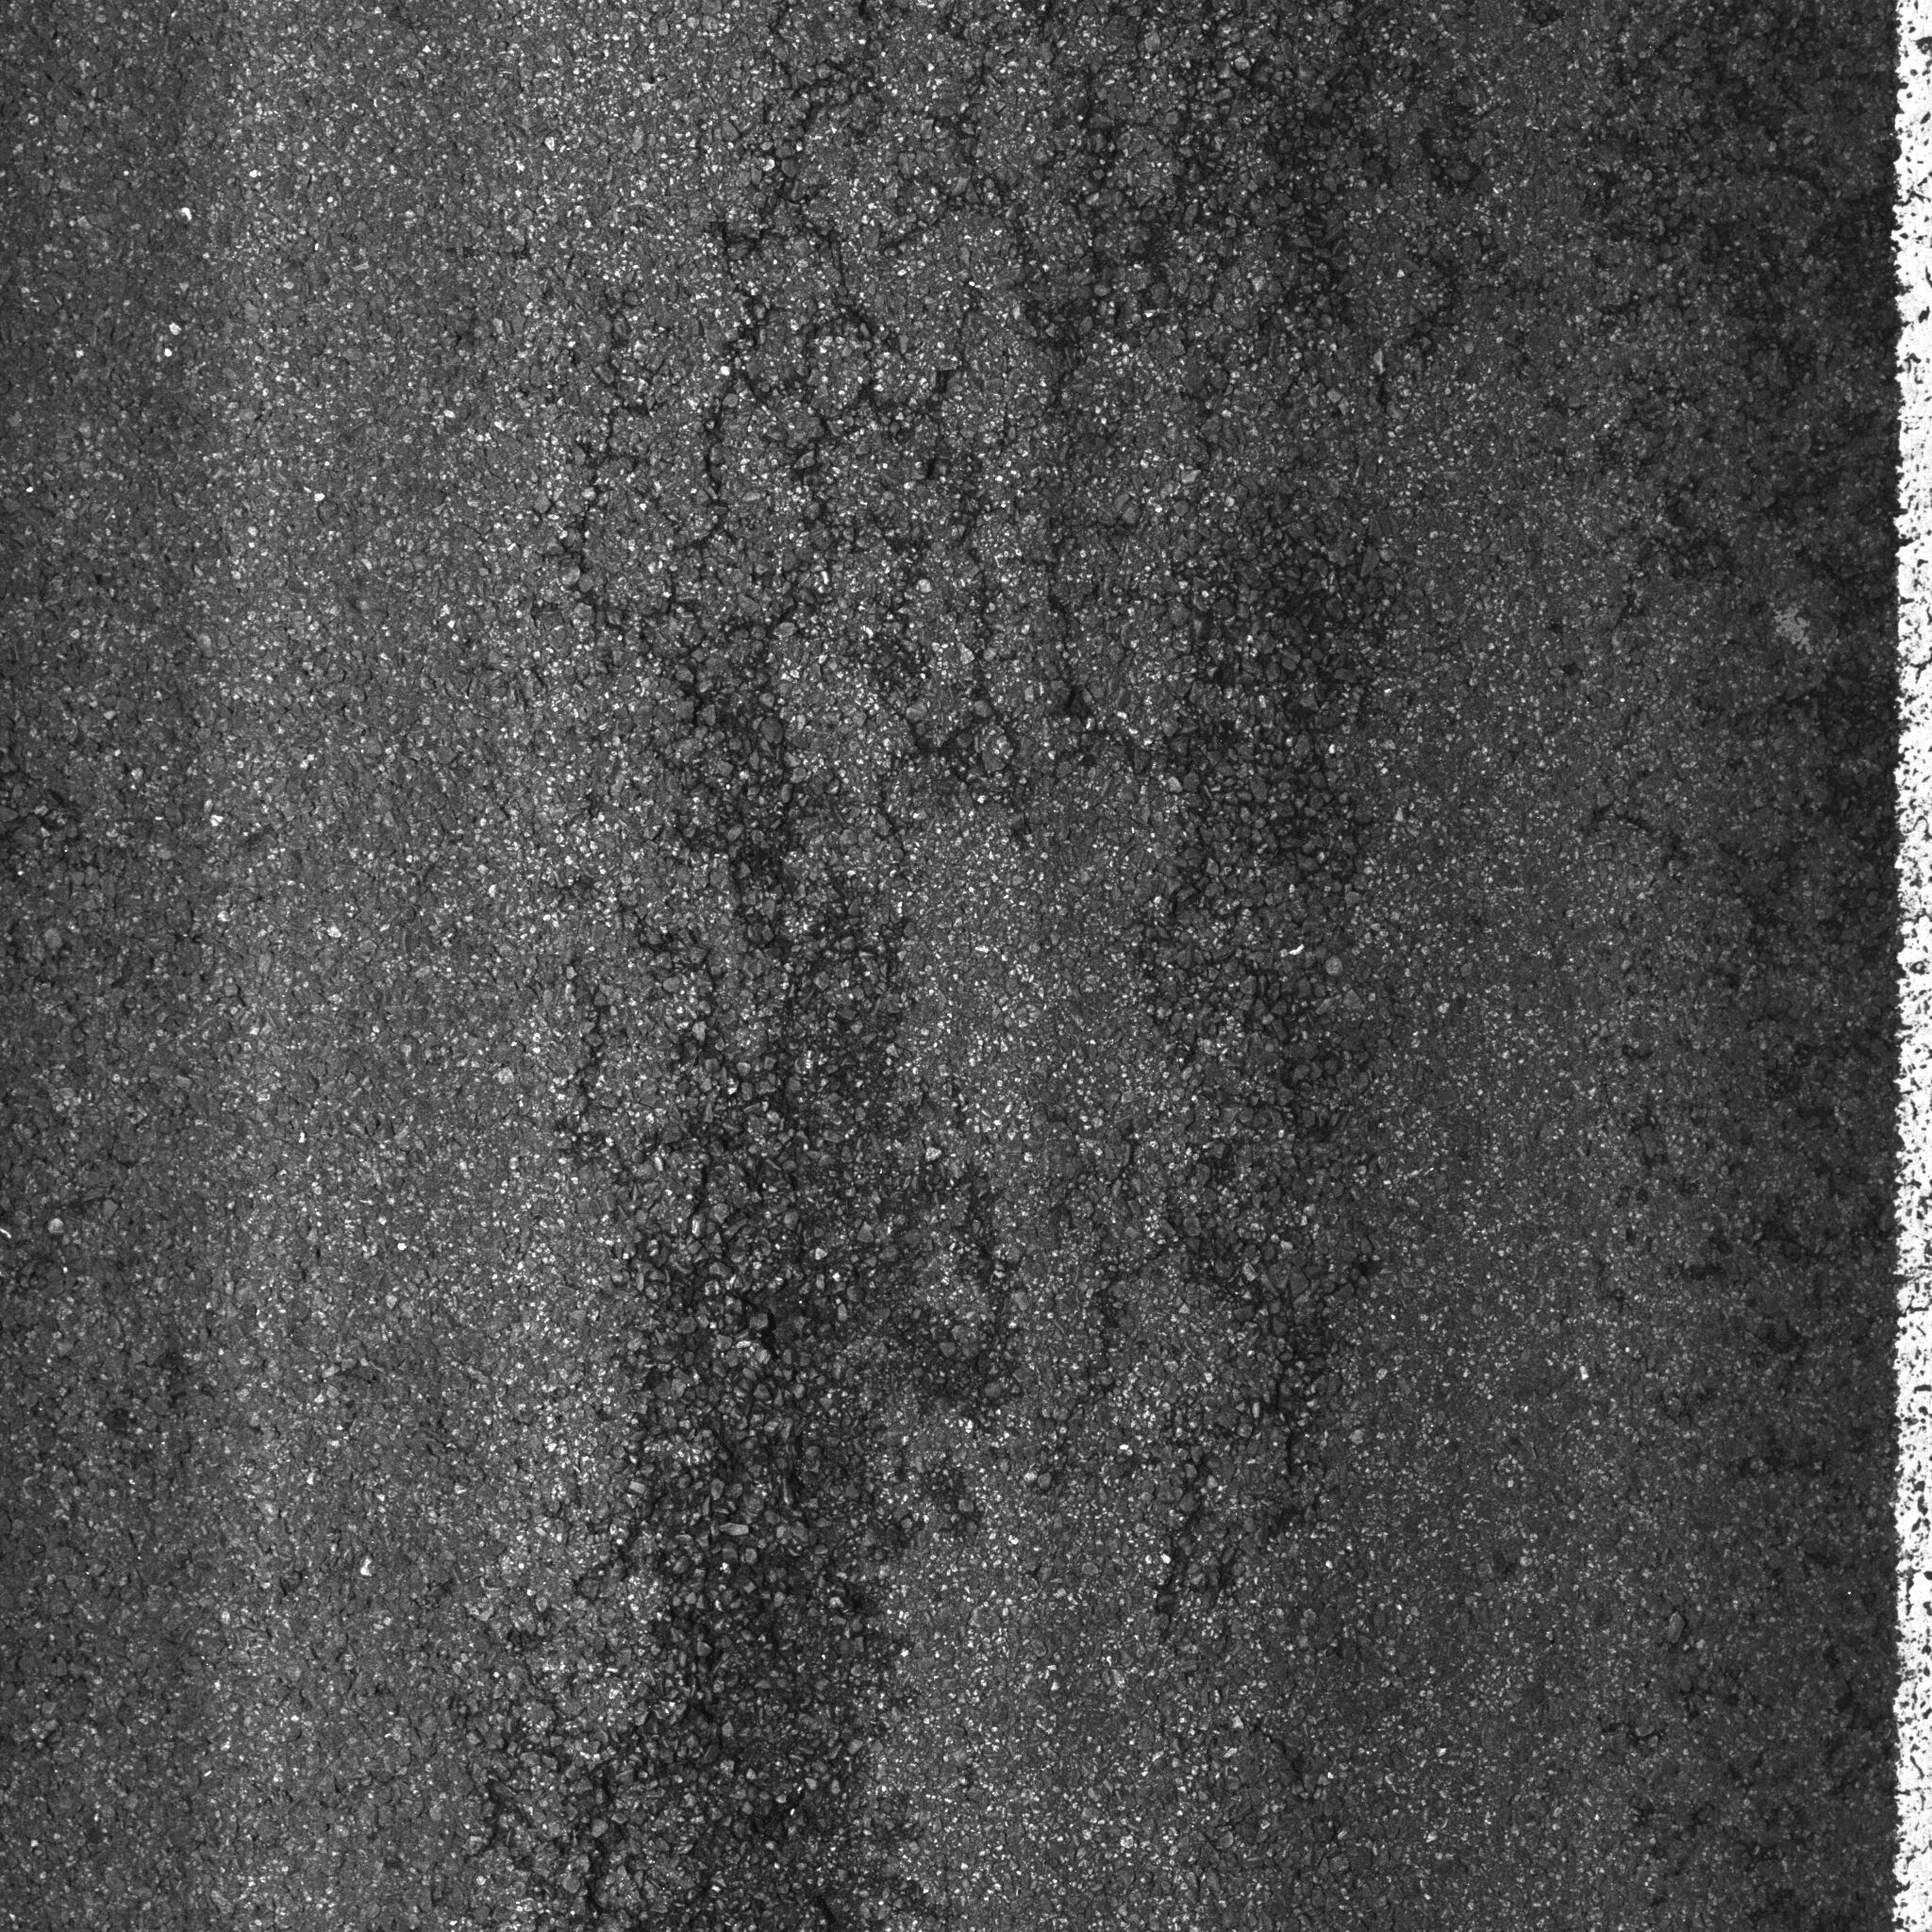alligator: (419, 5, 1668, 1930)
